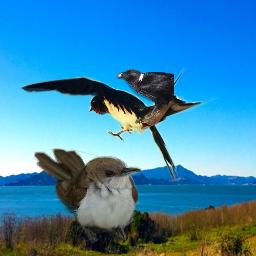Crow: (116, 69, 174, 126)
Cuckoo: (34, 148, 142, 245)
Swallow: (17, 67, 236, 181)
